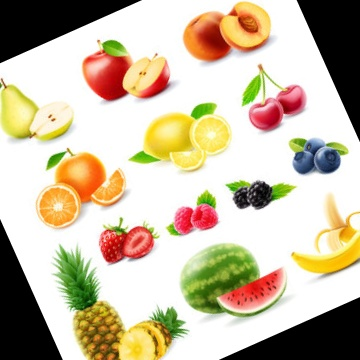Pineapple: (52, 245, 136, 360)
